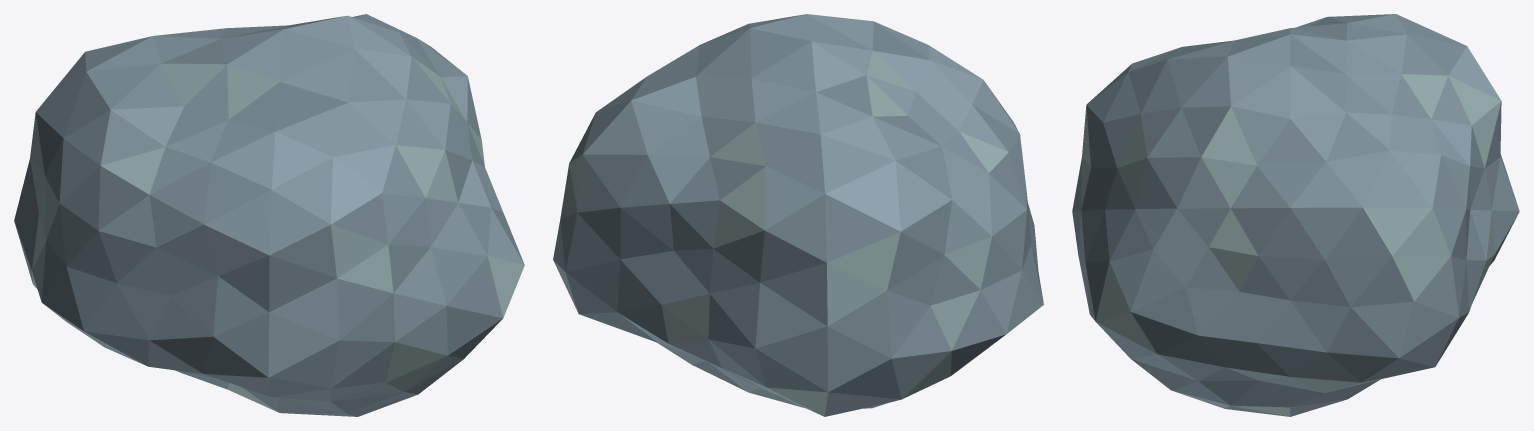
Rendered from Asteroid_Icy.glb.
The picture shows the model from 3 angles, left to right: view 1: azimuth 30°, elevation 25°; view 2: azimuth 150°, elevation 25°; view 3: azimuth 270°, elevation 25°; orthographic projection. The views are drawn at different scales.
Visible parts, largest first — view 1: Fractured rock; view 2: Fractured rock; view 3: Fractured rock.
Boxes of the visible parts, box(x1,y1,x2,y2) form: Fractured rock: box(14, 14, 524, 416); Fractured rock: box(553, 14, 1043, 416); Fractured rock: box(1072, 14, 1519, 416).
Size of the model in its own units: 2.33 by 1.92 by 2.18.
